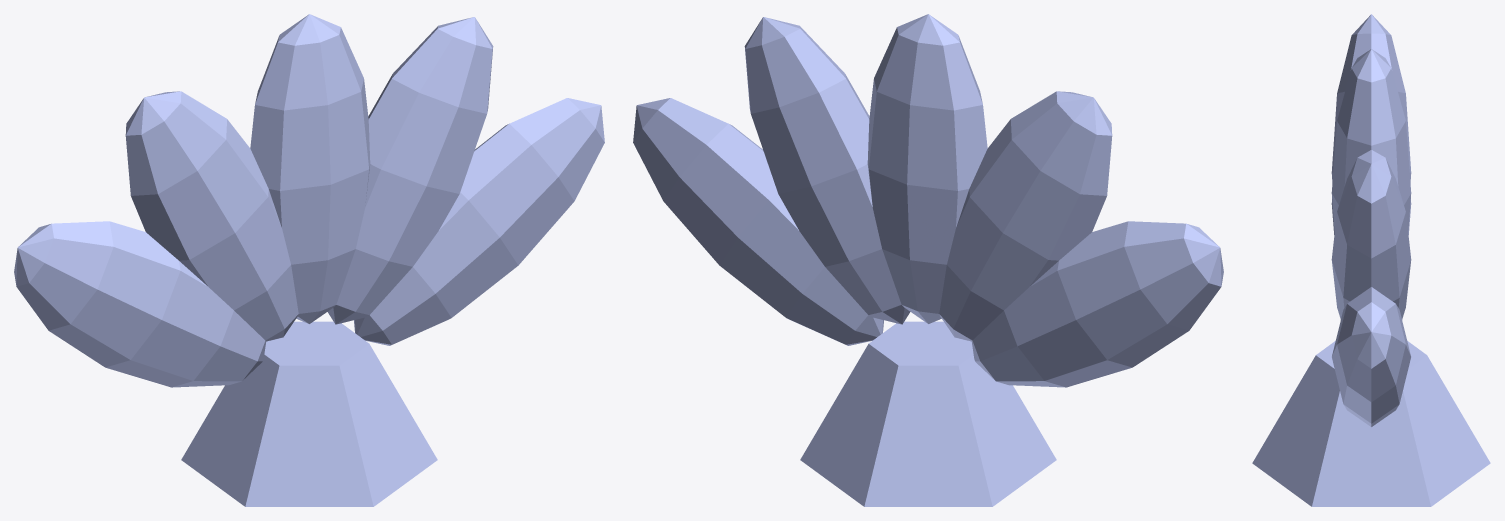
Rendered from shell.fbx.
The picture shows the model from 3 angles, left to right: view 1: azimuth 30°, elevation 25°; view 2: azimuth 150°, elevation 25°; view 3: azimuth 270°, elevation 25°; orthographic projection. The views are drawn at different scales.
Visible parts, largest first — view 1: shell.Main; view 2: shell.Main; view 3: shell.Main.
Part boxes in pixels (left/top/right/bottom): shell.Main: left=14, top=14, right=604, bottom=506; shell.Main: left=633, top=14, right=1223, bottom=506; shell.Main: left=1252, top=14, right=1490, bottom=506.
Bounding box in the file's own units: 1.58 × 1.15 × 0.6.
